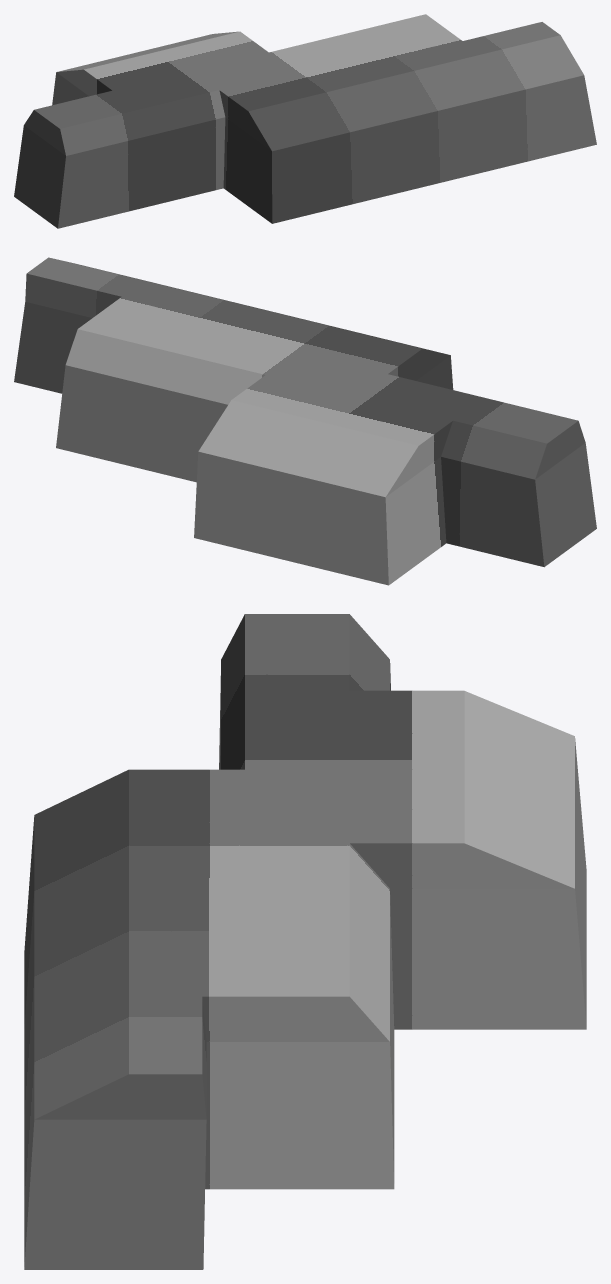
The model's file is stone_chips_815x01.gltf.
3 views of the same model, one above another, from view 1: azimuth 30°, elevation 25°; view 2: azimuth 150°, elevation 25°; view 3: azimuth 270°, elevation 25° (orthographic). The views are drawn at different scales.
Parts seen in each view (by area): view 1: stone_chips_815x01; view 2: stone_chips_815x01; view 3: stone_chips_815x01.
Part boxes in pixels (x1=…): stone_chips_815x01: x1=14, y1=14, x2=596, y2=228; stone_chips_815x01: x1=14, y1=257, x2=596, y2=585; stone_chips_815x01: x1=24, y1=614, x2=586, y2=1269.
Size of the model in its own units: 0.699 by 0.1265 by 0.3471.
Materials: 1 (1 with a texture image).
